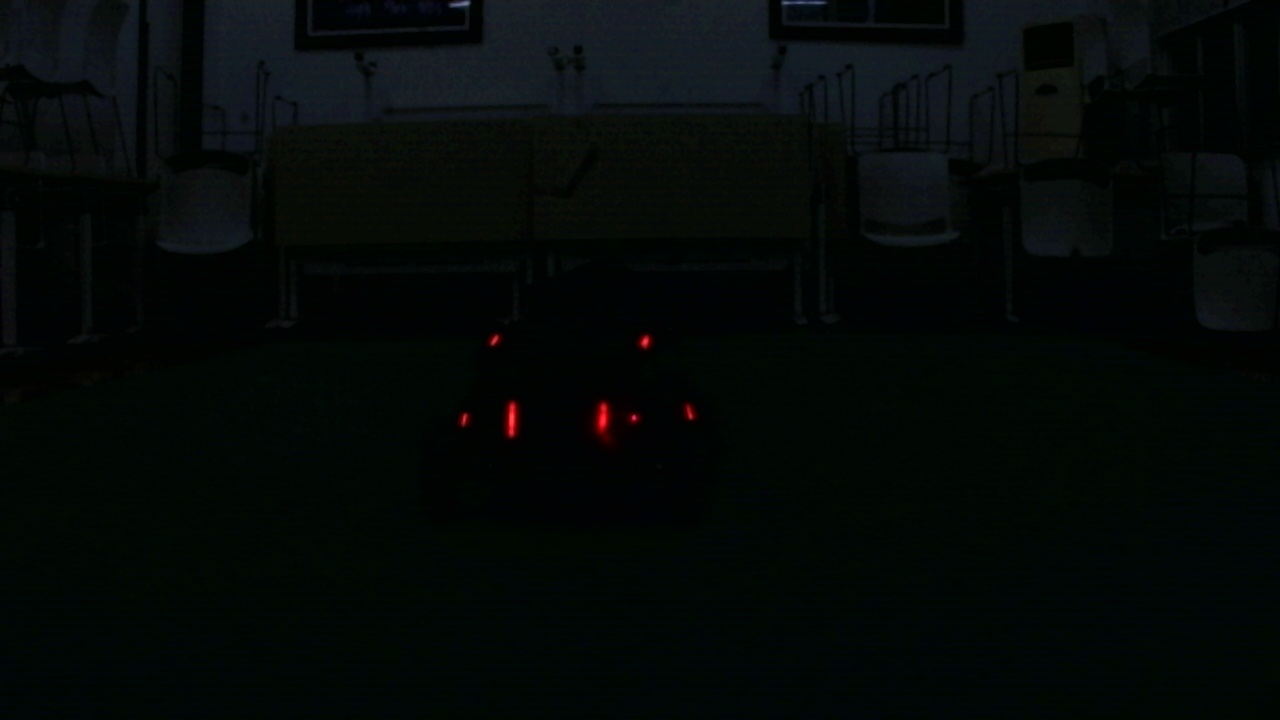lamp: (594, 401, 610, 435), (506, 403, 520, 440)
pair1: (509, 400, 608, 435)
